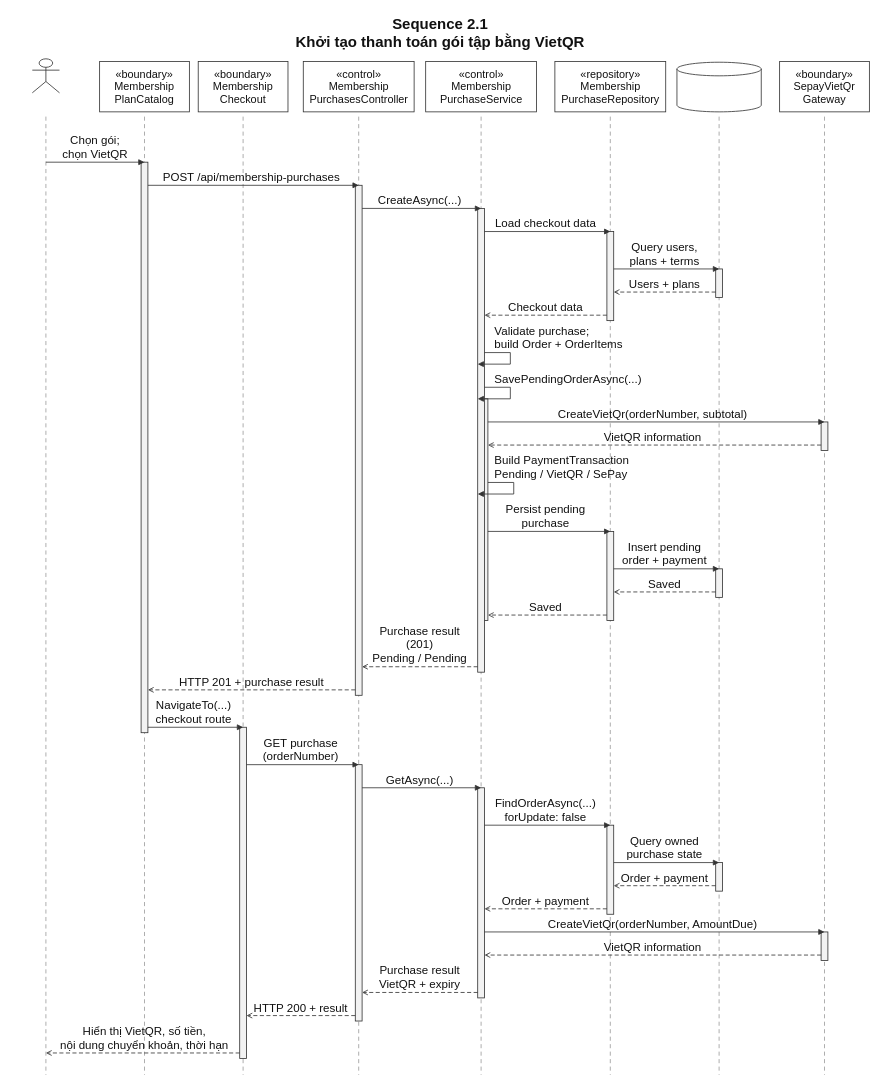
Image size: 881x1087. Some labels were removed from this diagram. The centre of each missing label's shape, as x and y in pixels:
"Customer" belongs at (x=46, y=75).
"VFMS Database" belongs at (x=718, y=86).
